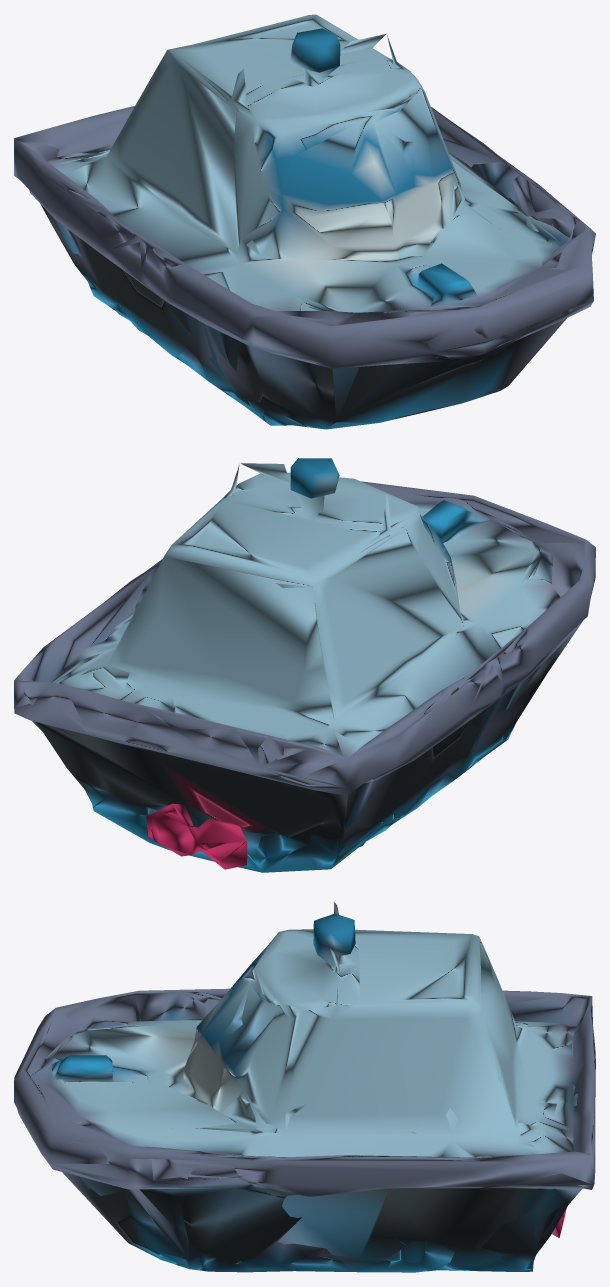
Rendered from gen3d-motorboat-lod0.glb.
3 renders of one model, top to bottom at view 1: azimuth 30°, elevation 25°; view 2: azimuth 150°, elevation 25°; view 3: azimuth 270°, elevation 25°, orthographic. The views are drawn at different scales.
Parts seen in each view (by area): view 1: part_0; view 2: part_0; view 3: part_0.
Part boxes in pixels (bbox=[...]): part_0: bbox=[14, 14, 595, 429]; part_0: bbox=[14, 458, 595, 872]; part_0: bbox=[14, 902, 595, 1272].
Size of the model in its own units: 1.17 by 0.9995 by 1.68.
